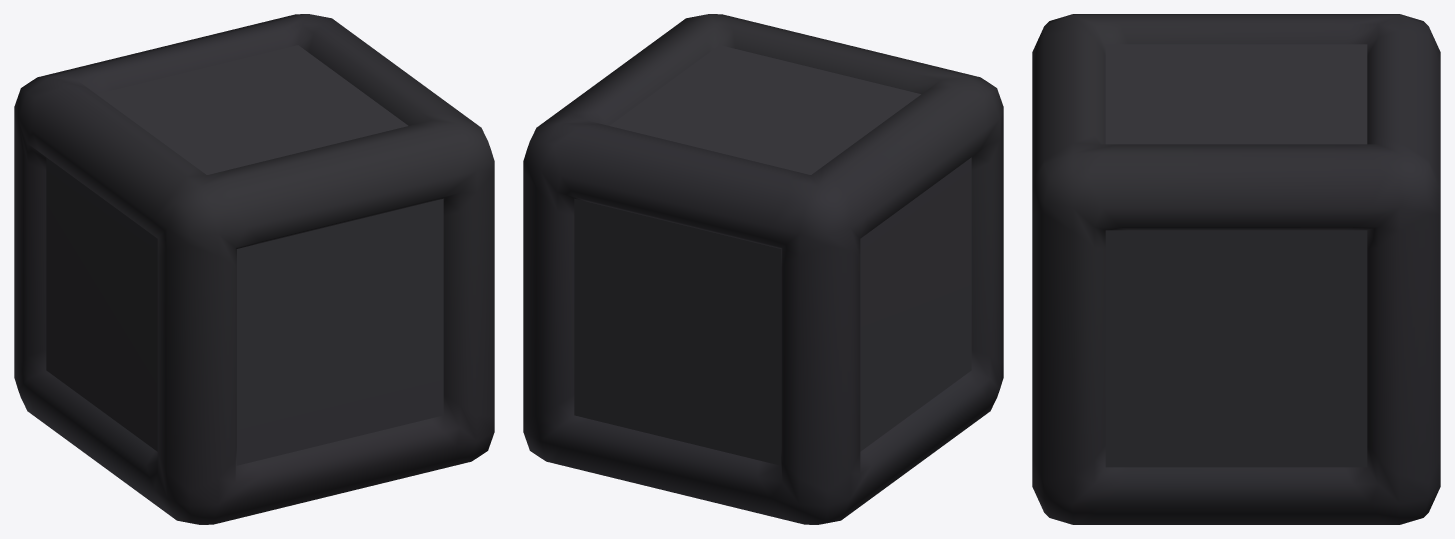
File: Block_Black.fbx
The picture shows the model from 3 angles, left to right: view 1: azimuth 30°, elevation 25°; view 2: azimuth 150°, elevation 25°; view 3: azimuth 270°, elevation 25°; orthographic projection. The views are drawn at different scales.
Parts seen in each view (by area): view 1: Block_Black; view 2: Block_Black; view 3: Block_Black.
Part boxes in pixels (left/top/right/bottom): Block_Black: left=14, top=14, right=494, bottom=524; Block_Black: left=523, top=14, right=1003, bottom=524; Block_Black: left=1032, top=14, right=1440, bottom=524.
Size of the model in its own units: 100 by 100 by 100.
